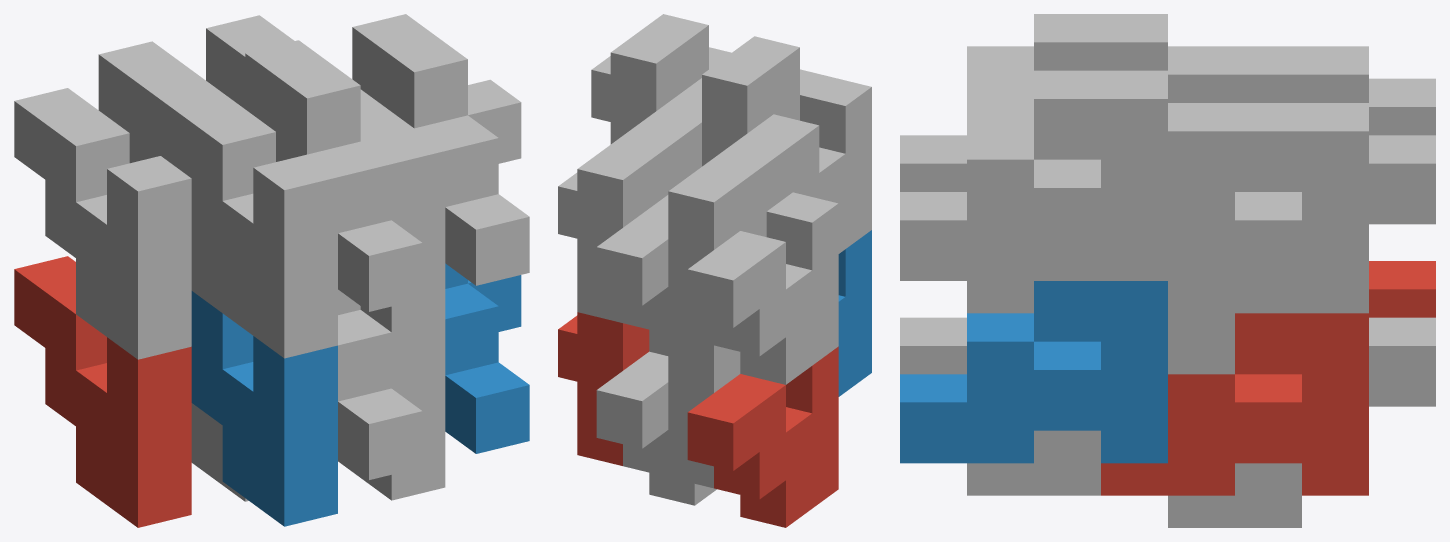
File: tiling.obj
The picture shows the model from 3 angles, left to right: view 1: azimuth 30°, elevation 25°; view 2: azimuth 150°, elevation 25°; view 3: azimuth 270°, elevation 25°; orthographic projection. The views are drawn at different scales.
Visible parts, largest first — view 1: copy_1_domain_3, copy_1_domain_4, copy_1_domain_1, copy_2_domain_8, copy_1_domain_2, copy_2_domain_4, copy_2_domain_6, copy_2_domain_2, copy_1_domain_8, copy_2_domain_3, copy_1_domain_6, copy_2_domain_7 (+1 smaller); view 2: copy_1_domain_3, copy_1_domain_1, copy_1_domain_4, copy_2_domain_7, copy_2_domain_3, copy_2_domain_8, copy_2_domain_4, copy_1_domain_5, copy_1_domain_7, copy_2_domain_5, copy_2_domain_1, copy_1_domain_2 (+1 smaller); view 3: copy_2_domain_8, copy_2_domain_6, copy_2_domain_7, copy_2_domain_5, copy_2_domain_4, copy_1_domain_5, copy_1_domain_8, copy_1_domain_6, copy_1_domain_7, copy_2_domain_3, copy_1_domain_4, copy_1_domain_3 (+2 smaller).
Boxes of the visible parts, box(x1,y1,x2,y2) form: copy_1_domain_3: box(14, 88, 191, 359); copy_1_domain_4: box(160, 86, 337, 358); copy_1_domain_1: box(14, 256, 191, 527); copy_2_domain_8: box(352, 14, 529, 285); copy_1_domain_2: box(191, 291, 337, 526); copy_2_domain_4: box(245, 40, 422, 311); copy_2_domain_6: box(445, 263, 529, 453); copy_2_domain_2: box(338, 289, 422, 479); copy_1_domain_8: box(360, 89, 445, 332); copy_2_domain_3: box(98, 41, 222, 312); copy_1_domain_6: box(338, 319, 445, 500); copy_2_domain_7: box(206, 15, 294, 108); copy_1_domain_3: box(687, 192, 838, 384); copy_1_domain_1: box(687, 346, 838, 527); copy_1_domain_4: box(721, 76, 871, 253); copy_2_domain_7: box(558, 130, 675, 322); copy_2_domain_3: box(649, 153, 766, 345); copy_2_domain_8: box(591, 14, 731, 144); copy_2_domain_4: box(683, 36, 825, 166); copy_1_domain_5: box(596, 351, 716, 505); copy_1_domain_7: box(596, 208, 668, 355); copy_2_domain_5: box(558, 312, 649, 465); copy_2_domain_1: box(668, 334, 740, 488); copy_1_domain_2: box(838, 230, 871, 396); copy_2_domain_8: box(900, 70, 1167, 280); copy_2_domain_6: box(900, 281, 1167, 463); copy_2_domain_7: box(1168, 103, 1368, 313); copy_2_domain_5: box(1101, 313, 1368, 495); copy_2_domain_4: box(900, 14, 1167, 191); copy_1_domain_5: box(1168, 317, 1435, 527); copy_1_domain_8: box(967, 103, 1234, 313); copy_1_domain_6: box(967, 313, 1234, 495); copy_1_domain_7: box(1235, 135, 1435, 313); copy_2_domain_3: box(1235, 46, 1368, 102); copy_1_domain_4: box(967, 46, 1234, 102); copy_1_domain_3: box(1369, 78, 1435, 135).
Size of the model in its own units: 6 by 8 by 8.
